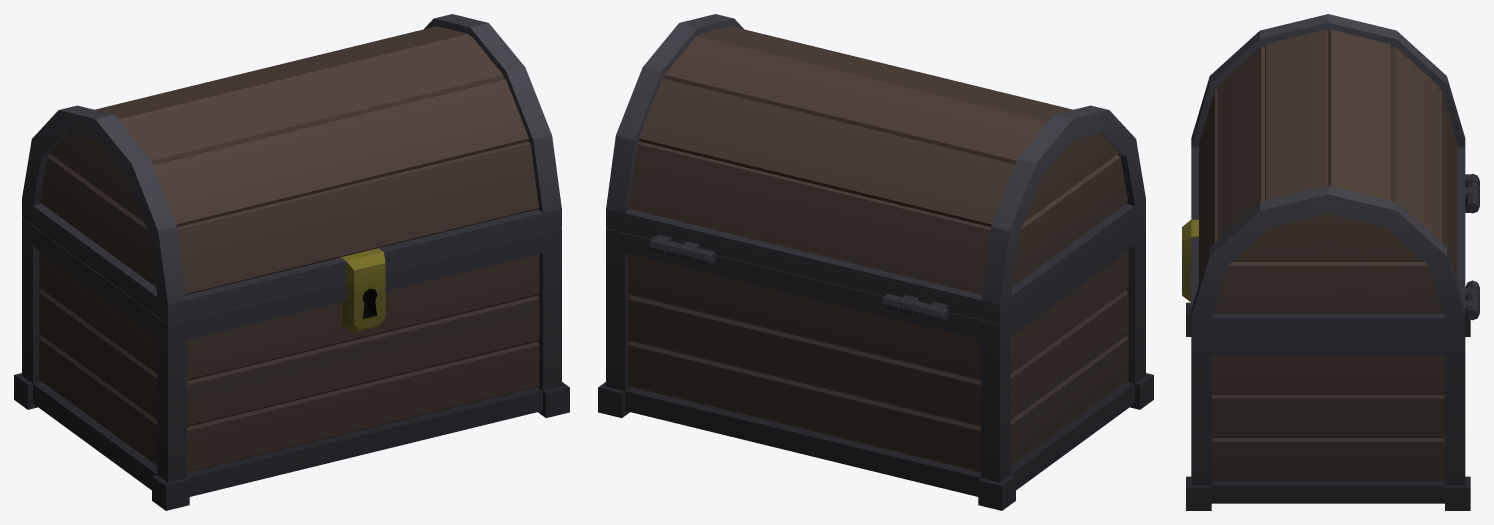
Rendered from Low_Poly_Chest FBX.fbx.
3 views of the same model, side by side, from view 1: azimuth 30°, elevation 25°; view 2: azimuth 150°, elevation 25°; view 3: azimuth 270°, elevation 25° (orthographic). The views are drawn at different scales.
Visible parts, largest first — view 1: Chest.Top, Chest.Bottom; view 2: Chest.Top, Chest.Bottom; view 3: Chest.Top, Chest.Bottom.
Part boxes in pixels (x1,y1,x2,y2): Chest.Top: [22, 14, 561, 324]; Chest.Bottom: [14, 218, 569, 510]; Chest.Top: [606, 14, 1145, 324]; Chest.Bottom: [598, 218, 1153, 510]; Chest.Top: [1182, 14, 1479, 336]; Chest.Bottom: [1182, 173, 1479, 510].
Size of the model in its own units: 126 by 99.98 by 85.87.
1 material, 1 textured.
